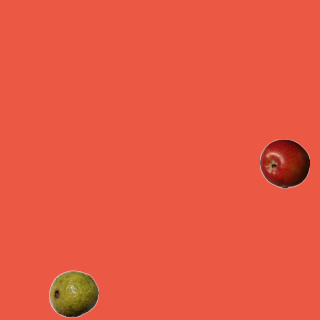Apple Braeburn: (259, 138, 309, 188)
Guava: (48, 268, 98, 318)
